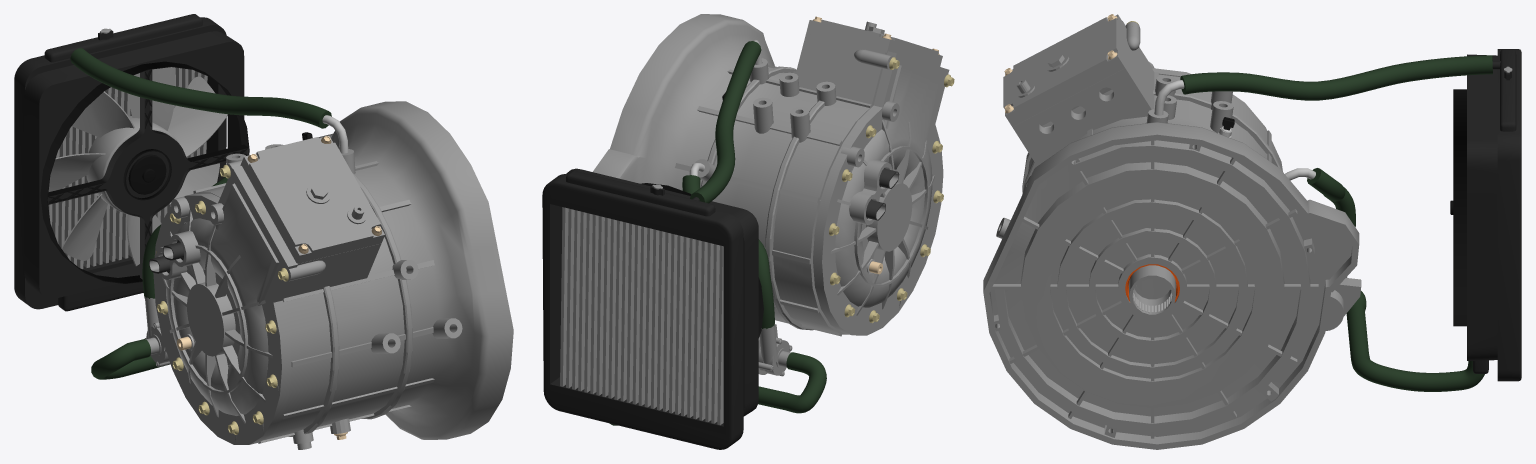
Rendered from fengshan1.FBX.
3 views of the same model, side by side, from view 1: azimuth 30°, elevation 25°; view 2: azimuth 150°, elevation 25°; view 3: azimuth 270°, elevation 25° (orthographic). The views are drawn at different scales.
Parts seen in each view (by area): view 1: Object193, Object02, Rectangle002, 1, sdadsgsgdf, Cut-Extrude9, Object175, 4, Cylinder695, 2, Object195, Object200; view 2: 1, Object193, Object02, Object175, 4, Rectangle002, sdadsgsgdf, Cylinder695, 2, Object200, Object195; view 3: Object193, Object175, Rectangle002, 4, 1, sdadsgsgdf, Object208, 2, Object200, Object02.
Part boxes in pixels (x1,y1,x2,y2): Object193: (193, 101, 513, 443); Object02: (153, 161, 299, 444); Rectangle002: (24, 31, 249, 311); 1: (14, 14, 226, 309); sdadsgsgdf: (240, 136, 384, 263); Cut-Extrude9: (48, 67, 227, 266); Object175: (195, 144, 462, 449); 4: (70, 48, 331, 379); Cylinder695: (155, 165, 288, 434); 2: (144, 296, 170, 366); Object195: (149, 240, 183, 273); Object200: (322, 115, 355, 174); 1: (542, 170, 743, 449); Object193: (593, 14, 886, 336); Object02: (813, 51, 949, 335); Object175: (675, 49, 882, 335); 4: (609, 41, 826, 425); Rectangle002: (561, 168, 763, 416); sdadsgsgdf: (806, 19, 942, 66); Cylinder695: (829, 57, 954, 323); 2: (758, 324, 792, 376); Object200: (689, 40, 768, 181); Object195: (866, 168, 899, 220); Object193: (983, 27, 1359, 449); Object175: (991, 26, 1318, 438); Rectangle002: (1450, 54, 1497, 373); 4: (1180, 55, 1492, 391); 1: (1492, 49, 1521, 381); sdadsgsgdf: (1003, 14, 1125, 126); Object208: (1129, 265, 1175, 317); 2: (1325, 276, 1361, 330); Object200: (1146, 80, 1315, 180); Object02: (1022, 21, 1267, 191).
Size of the model in its own units: 27.68 by 34 by 49.09.
